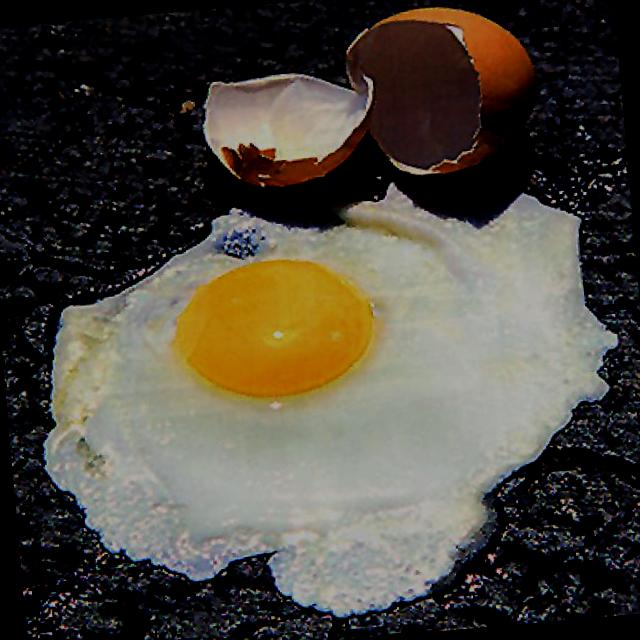Egg: (21, 168, 626, 632)
